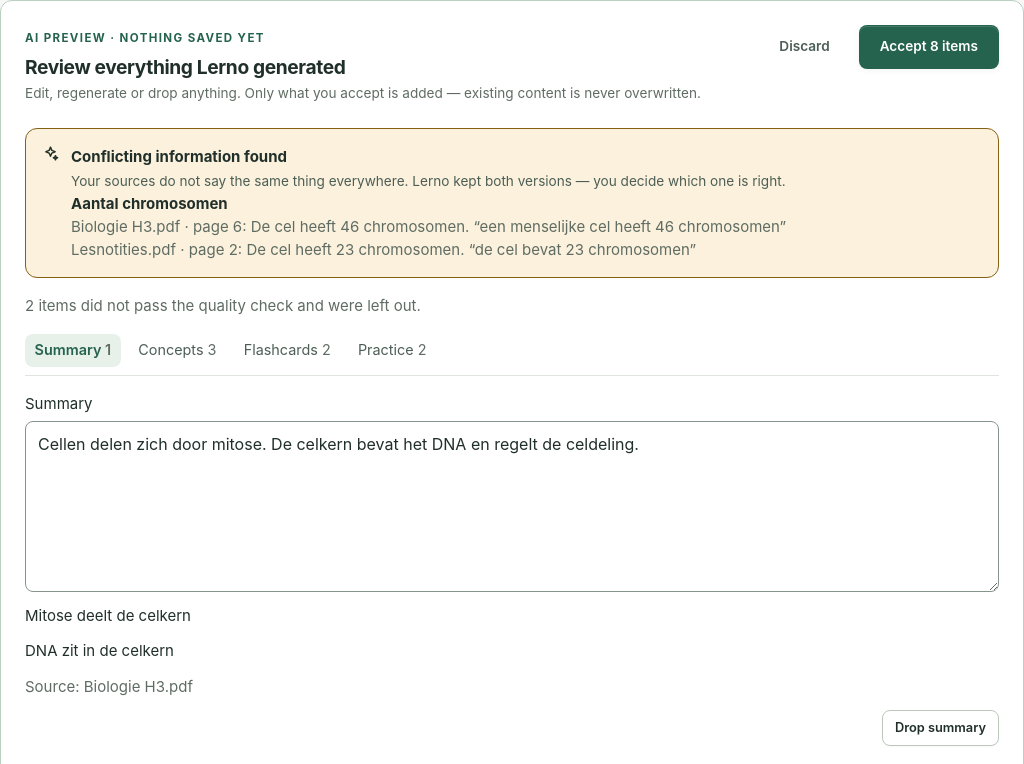
Test: ContentReview › replaces exactly one item when it is regenerated
The image size is (1024, 764).
Click the tab "Flashcards 2".
click(287, 350)  # box [234,334,340,367]
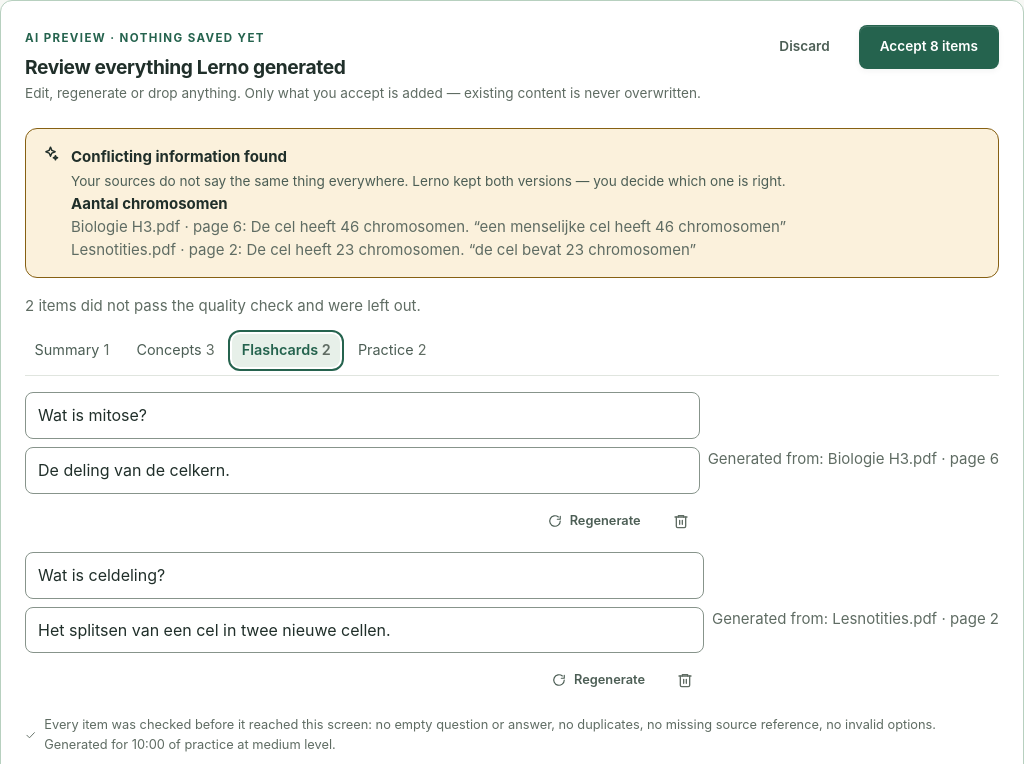
Click the button with aria-label "Regenerate flashcard 1".
click(594, 521)  # box [535,503,654,539]
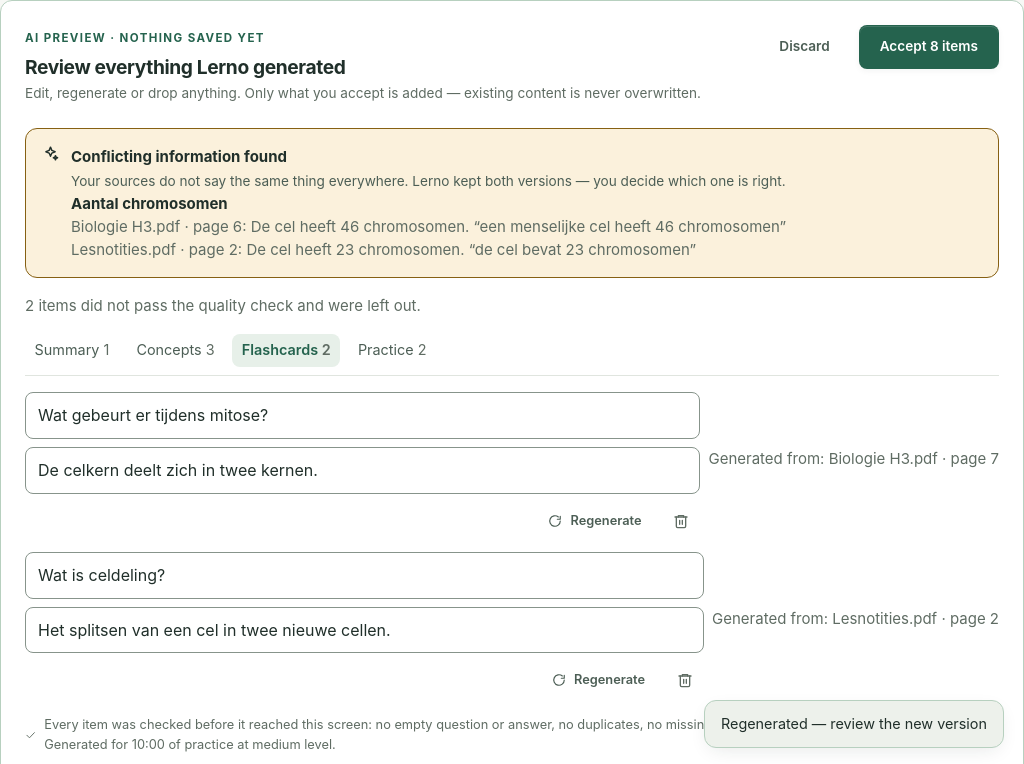
Check: the field showing "Wat is celdeling?" is shown, box [25,552,704,599]
Check: the field showing "Wat gebeurt er tijdens mitose?" is shown, box [25,392,700,439]
Check: the text "Regenerated — review the new version" is shown, box [704,700,1004,748]
